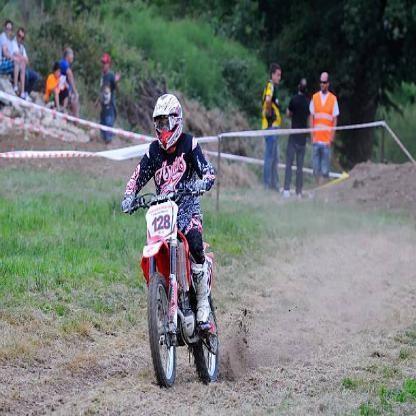Motorcycle: (121, 184, 225, 391)
